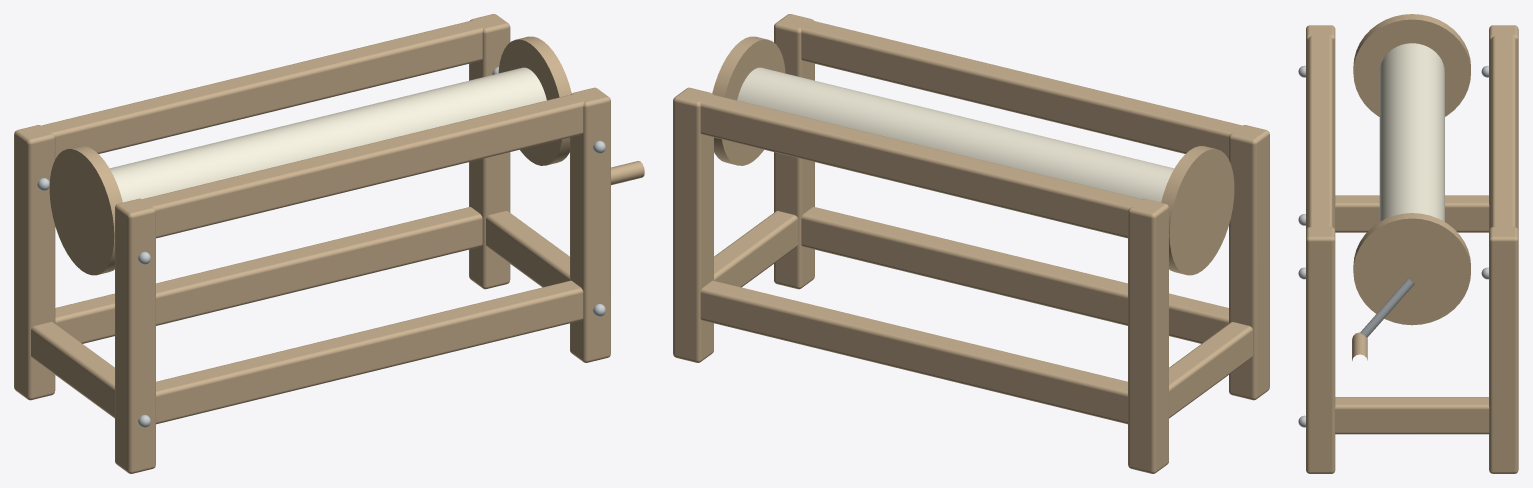
The model's file is textile-weaving-and-dye-workshop-warp-beam-stand-515559b5.glb.
3 renders of one model, left to right at view 1: azimuth 30°, elevation 25°; view 2: azimuth 150°, elevation 25°; view 3: azimuth 270°, elevation 25°, orthographic. The views are drawn at different scales.
Parts seen in each view (by area): view 1: warp-beam-stand; view 2: warp-beam-stand; view 3: warp-beam-stand.
Boxes of the visible parts, bbox=[...] form: warp-beam-stand: bbox=[14, 14, 644, 473]; warp-beam-stand: bbox=[673, 14, 1269, 473]; warp-beam-stand: bbox=[1298, 14, 1518, 473].
Size of the model in its own units: 1.74 by 0.85 by 0.673.
